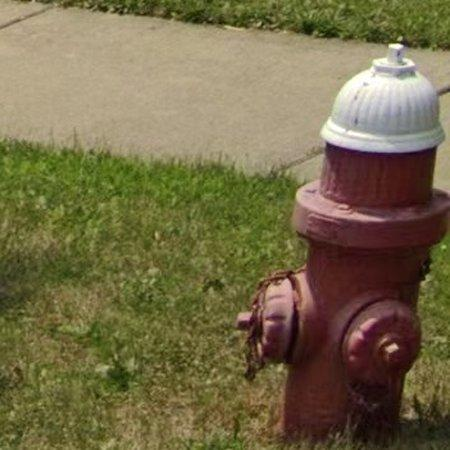a fire hydrant: (239, 44, 450, 438)
